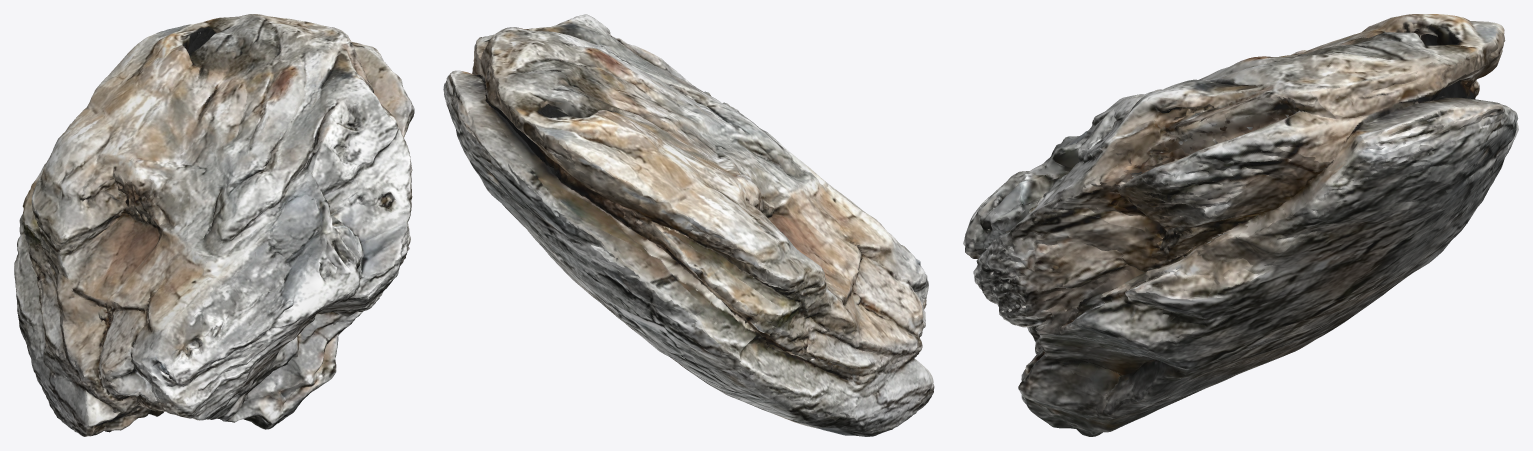
File: striated-schist-v13.glb
3 renders of one model, left to right at view 1: azimuth 30°, elevation 25°; view 2: azimuth 150°, elevation 25°; view 3: azimuth 270°, elevation 25°, orthographic. The views are drawn at different scales.
Parts seen in each view (by area): view 1: geometry_0; view 2: geometry_0; view 3: geometry_0.
Part boxes in pixels (x1,y1,x2,y2): geometry_0: (14, 14, 414, 436); geometry_0: (443, 14, 934, 436); geometry_0: (963, 14, 1518, 436).
Size of the model in its own units: 0.35 by 0.2938 by 0.3229.
1 material, 1 textured.
